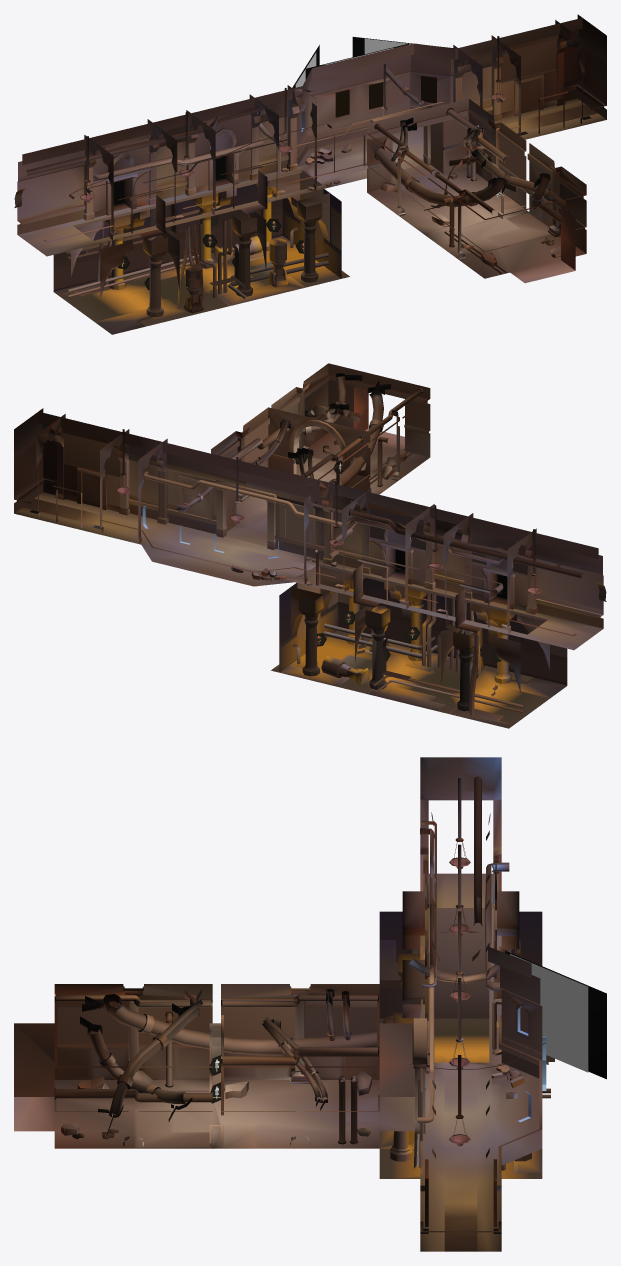
File: 11Hall.gltf
3 views of the same model, one above another, from view 1: azimuth 30°, elevation 25°; view 2: azimuth 150°, elevation 25°; view 3: azimuth 270°, elevation 25° (orthographic). The views are drawn at different scales.
Visible parts, largest first — view 1: stg030_o15_Mesh_12, stg030_o15_Mesh_10, stg030_o15_Mesh_44, stg030_o15_Mesh_0, stg030_o15_Mesh_14, stg030_o15_Mesh_34, stg030_o15_Mesh_23, stg030_o15_Mesh_16, stg030_o15_Mesh_50, stg030_o15_Mesh_9, stg030_o16_Mesh_20, stg030_o15_Mesh_35 (+25 smaller); view 2: stg030_o15_Mesh_0, stg030_o15_Mesh_10, stg030_o15_Mesh_14, stg030_o15_Mesh_44, stg030_o15_Mesh_12, stg030_o15_Mesh_50, stg030_o15_Mesh_23, stg030_o15_Mesh_34, stg030_o15_Mesh_16, stg030_o15_Mesh_35, stg030_o15_Mesh_9, stg030_o15_Mesh_36 (+22 smaller); view 3: stg030_o15_Mesh_44, stg030_o15_Mesh_50, stg030_o15_Mesh_0, stg030_o15_Mesh_14, stg030_o16_Mesh_20, stg030_o15_Mesh_35, stg030_o16_Mesh_19, stg030_o15_Mesh_54, stg030_o15_Mesh_10, stg030_o15_Mesh_9, stg030_k15_Mesh_0, stg030_o15_Mesh_23 (+15 smaller).
Part boxes in pixels (x1,y1,x2,y2): stg030_o15_Mesh_12: [17, 46, 606, 220]; stg030_o15_Mesh_10: [18, 14, 606, 317]; stg030_o15_Mesh_44: [65, 96, 567, 308]; stg030_o15_Mesh_0: [18, 98, 606, 286]; stg030_o15_Mesh_14: [71, 32, 586, 293]; stg030_o15_Mesh_34: [93, 39, 556, 227]; stg030_o15_Mesh_23: [17, 40, 606, 326]; stg030_o15_Mesh_16: [73, 77, 564, 320]; stg030_o15_Mesh_50: [22, 101, 601, 334]; stg030_o15_Mesh_9: [17, 78, 606, 298]; stg030_o16_Mesh_20: [392, 165, 575, 283]; stg030_o15_Mesh_35: [56, 173, 549, 334]; stg030_o15_Mesh_0: [14, 363, 603, 679]; stg030_o15_Mesh_10: [14, 408, 602, 711]; stg030_o15_Mesh_14: [45, 380, 549, 686]; stg030_o15_Mesh_44: [143, 376, 575, 696]; stg030_o15_Mesh_12: [14, 440, 603, 614]; stg030_o15_Mesh_50: [18, 404, 598, 728]; stg030_o15_Mesh_23: [14, 434, 602, 728]; stg030_o15_Mesh_34: [64, 433, 527, 621]; stg030_o15_Mesh_16: [56, 471, 547, 714]; stg030_o15_Mesh_35: [253, 458, 567, 727]; stg030_o15_Mesh_9: [14, 374, 603, 692]; stg030_o15_Mesh_36: [36, 414, 536, 581]; stg030_o15_Mesh_44: [54, 821, 548, 1170]; stg030_o15_Mesh_50: [14, 873, 542, 1251]; stg030_o15_Mesh_0: [54, 873, 554, 1251]; stg030_o15_Mesh_14: [14, 830, 496, 1182]; stg030_o16_Mesh_20: [14, 1097, 414, 1131]; stg030_o15_Mesh_35: [137, 912, 542, 1172]; stg030_o16_Mesh_19: [54, 1023, 379, 1148]; stg030_o15_Mesh_54: [58, 1018, 480, 1076]; stg030_o15_Mesh_10: [390, 757, 540, 1161]; stg030_o15_Mesh_9: [54, 846, 546, 1140]; stg030_k15_Mesh_0: [510, 954, 588, 1072]; stg030_o15_Mesh_23: [133, 790, 541, 1172].
Size of the model in its own units: 111 by 34.37 by 72.96.
